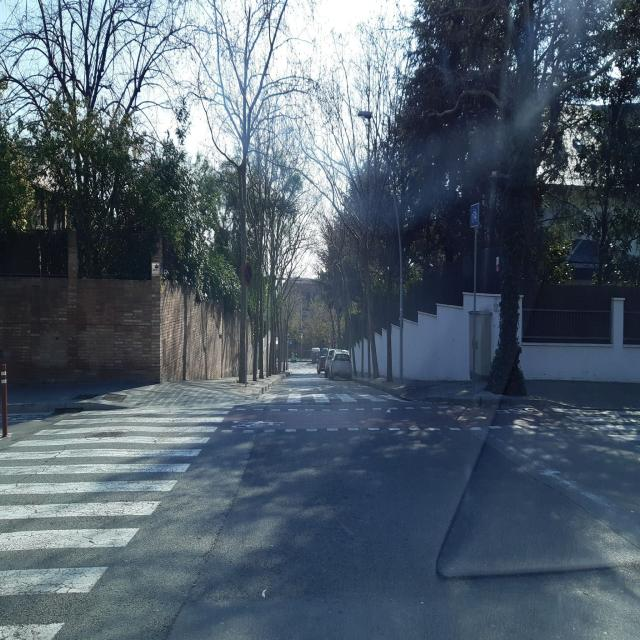forb_stopping: (244, 264, 253, 285)
